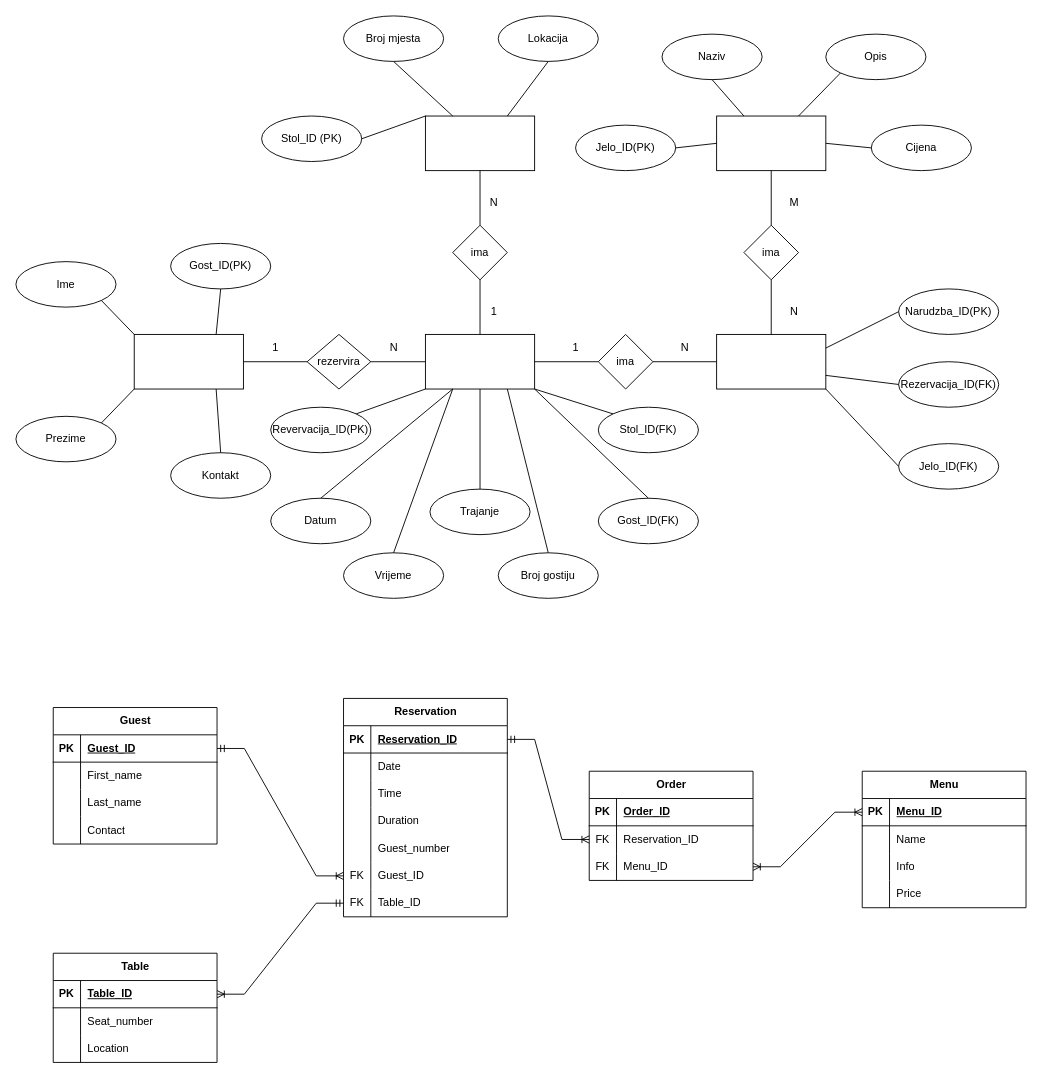
Image size: 1042x1078. Some labels were removed from this diagram. The shapes that lost their labels are listed below. From the top down, each one's box as (x1, y1, x2, y2) in pixels, then its label:
(425, 115, 535, 171): Stol
(716, 115, 826, 171): Jelovnik
(133, 334, 243, 389): Gost
(425, 334, 535, 389): Rezervacija
(716, 334, 826, 389): Narudžba
